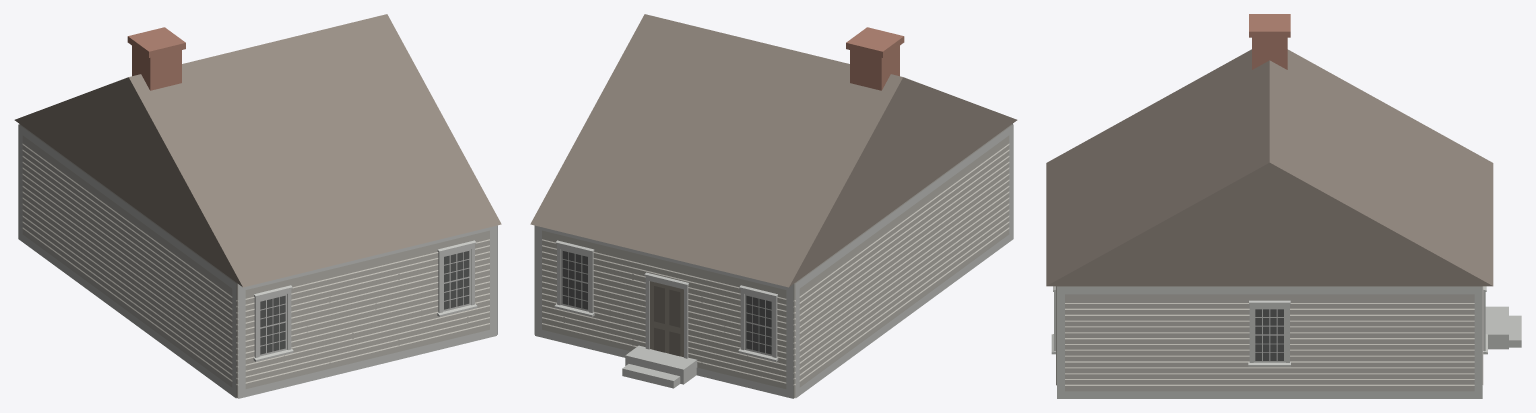
File: recon_1835_blk_school_section_tier_94_d5_01__inferred_1835.glb
3 views of the same model, side by side, from view 1: azimuth 30°, elevation 25°; view 2: azimuth 150°, elevation 25°; view 3: azimuth 270°, elevation 25° (orthographic). The views are drawn at different scales.
Visible parts, largest first — view 1: recon_1835_blk_school_section_tier_94_d5_01__inferred_1835; view 2: recon_1835_blk_school_section_tier_94_d5_01__inferred_1835; view 3: recon_1835_blk_school_section_tier_94_d5_01__inferred_1835.
Part boxes in pixels (x1,y1,x2,y2): recon_1835_blk_school_section_tier_94_d5_01__inferred_1835: [14, 14, 501, 398]; recon_1835_blk_school_section_tier_94_d5_01__inferred_1835: [530, 14, 1017, 398]; recon_1835_blk_school_section_tier_94_d5_01__inferred_1835: [1046, 14, 1521, 398].
Bounding box in the file's own units: 7.02 × 6.91 × 11.2.
